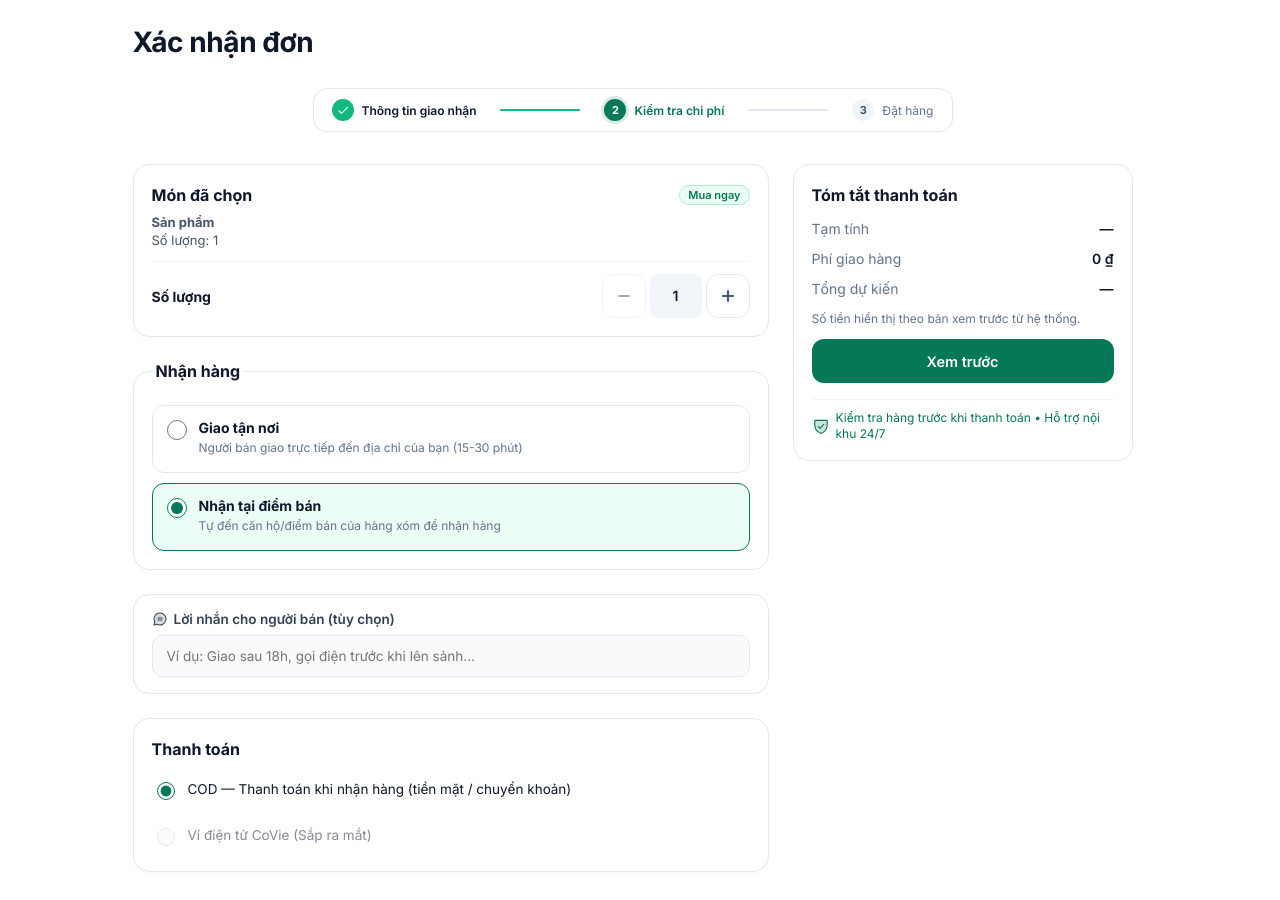
discards a pending preview after a quantity change
What coordinates should you click on to do the following:
click the button "Xem trước"
I would click on:
 (962, 361)
Its box is [812,339,1114,383].
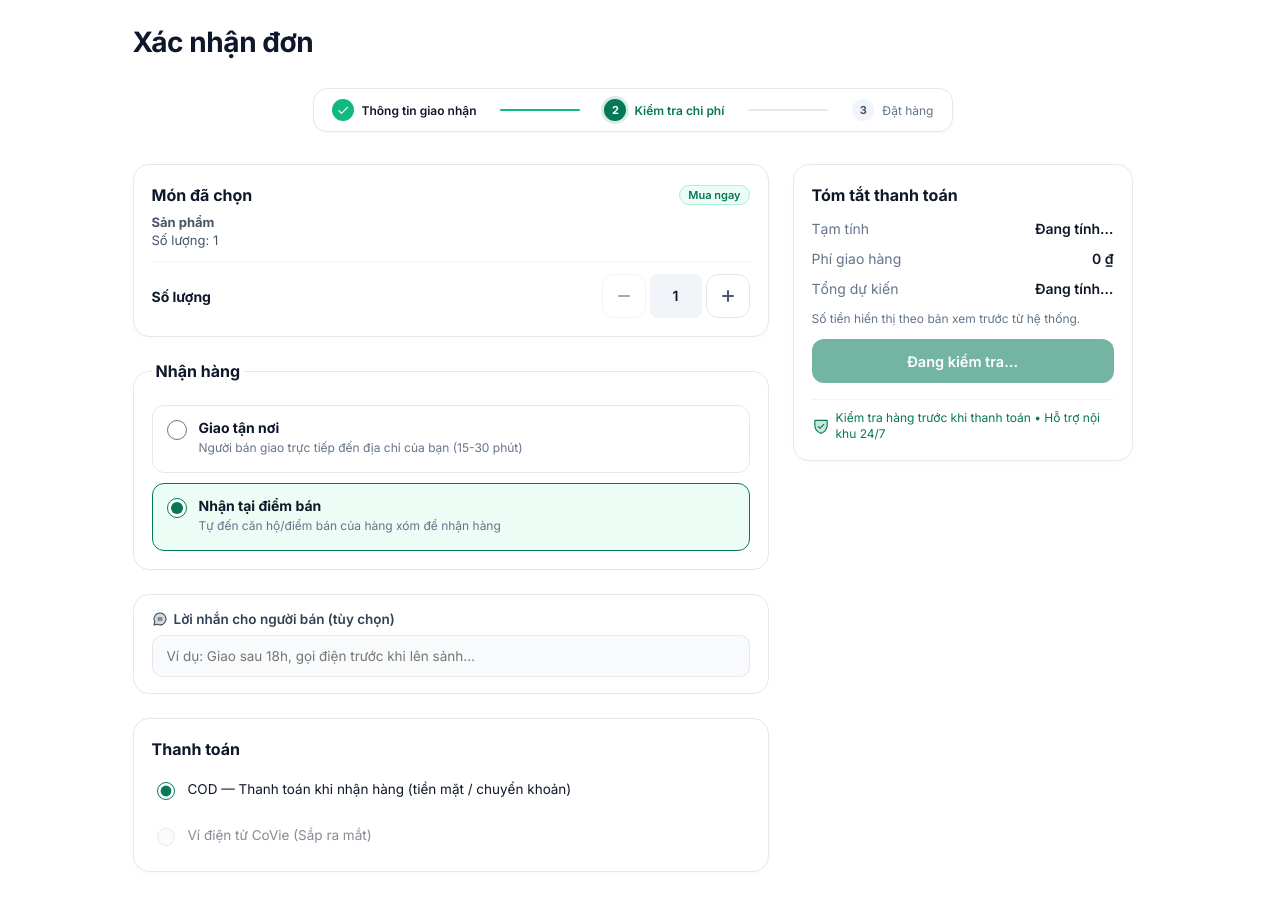
What coordinates should you click on to do the following:
click the button named "Tăng số lượng"
I would click on:
 (728, 296)
Its box is [706,274,750,318].
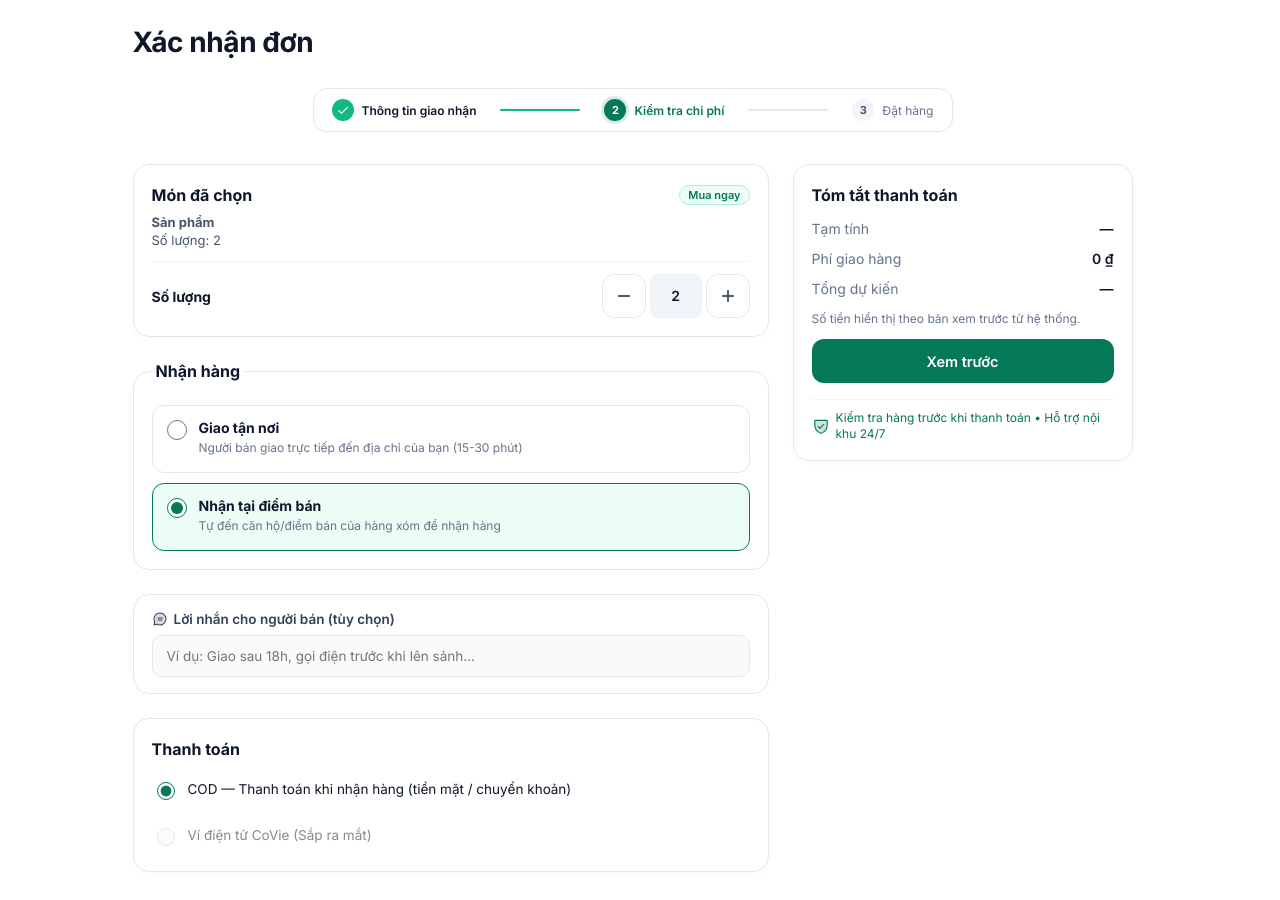
Result: the text named "Số lượng" reads "2" at [671,287,680,304]
Result: the button "Xem trước" is enabled at [812,339,1114,383]
